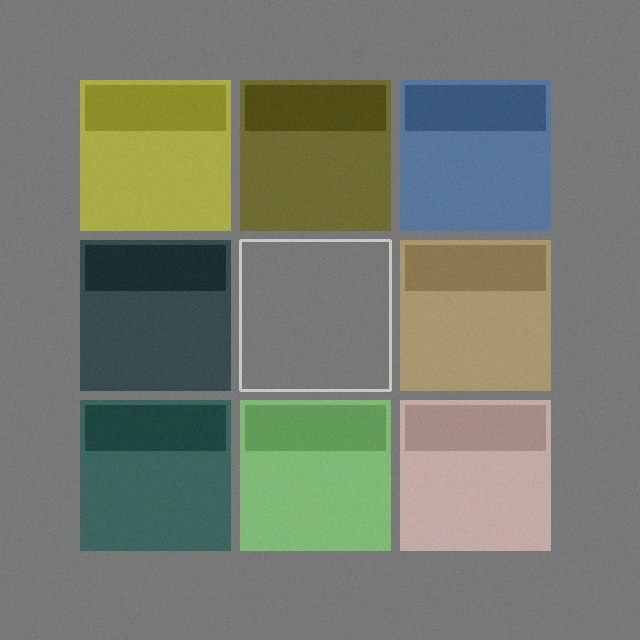space-empty: (240, 240, 390, 390)
space-occupied: (80, 80, 230, 230), (240, 80, 390, 230), (400, 80, 550, 230), (80, 240, 230, 390), (400, 240, 550, 390), (80, 400, 230, 550), (240, 400, 390, 550), (400, 400, 550, 550)
